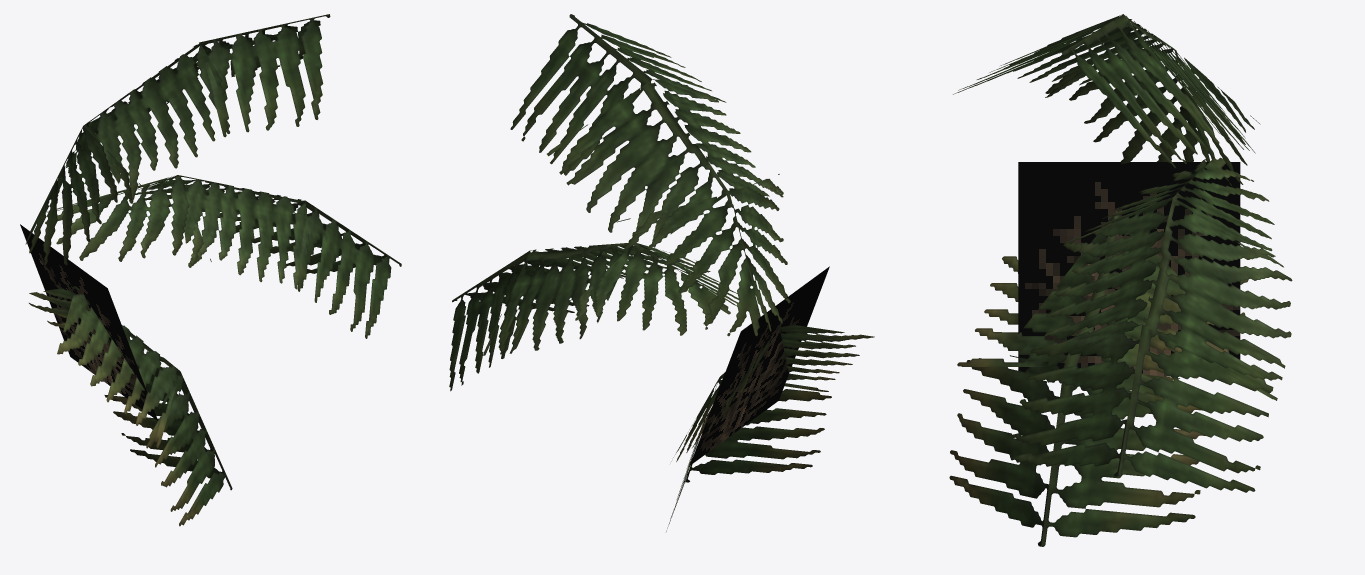
File: caribbean_royal_palm_straight_2.obj
3 renders of one model, left to right at view 1: azimuth 30°, elevation 25°; view 2: azimuth 150°, elevation 25°; view 3: azimuth 270°, elevation 25°, orthographic. The views are drawn at different scales.
Parts seen in each view (by area): view 1: cube.231; view 2: cube.231; view 3: cube.231.
Boxes of the visible parts, box(x1,y1,x2,y2) form: cube.231: box(20, 14, 401, 526); cube.231: box(449, 14, 874, 531); cube.231: box(949, 14, 1292, 546).
Bounding box in the file's own units: 3.81 × 4.33 × 2.8.
